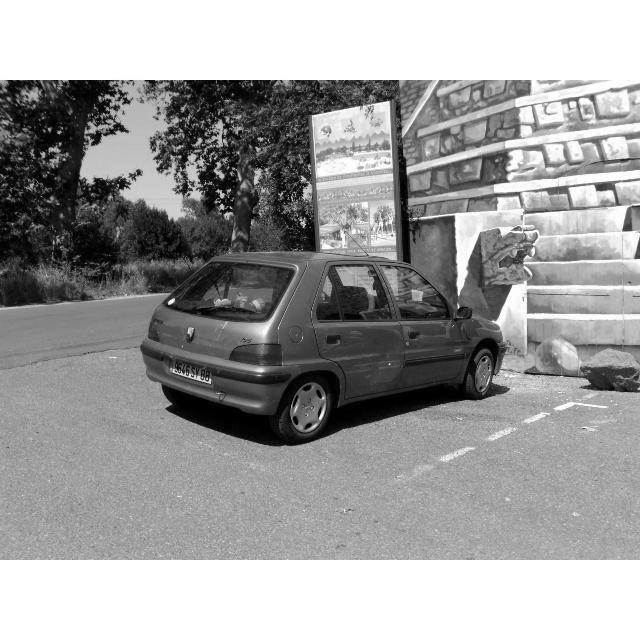doorouter-dent: (324, 321, 411, 405)
